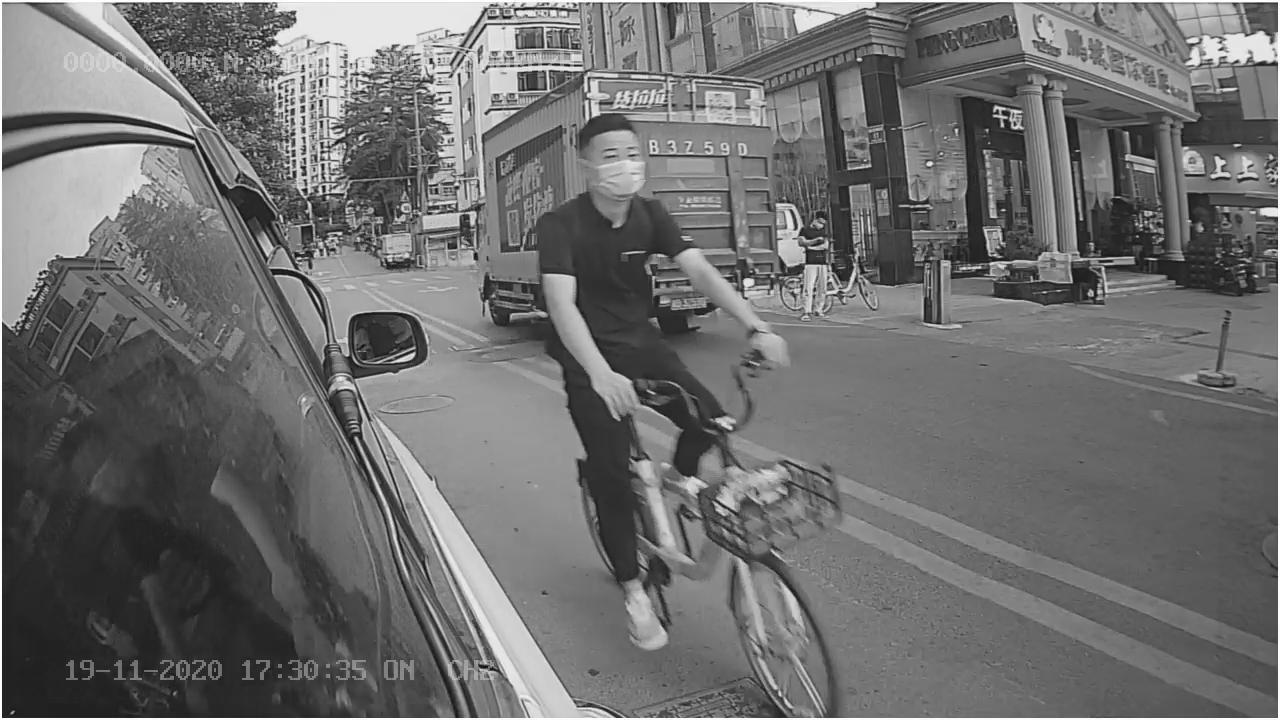person: (525, 125, 719, 377)
